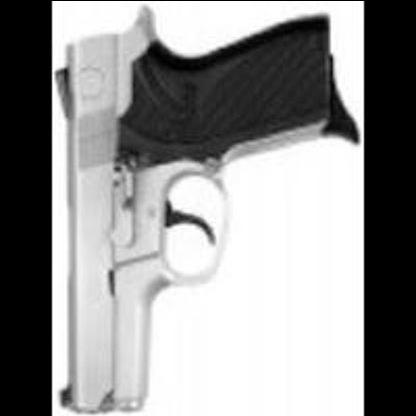weapon: (51, 5, 364, 415)
